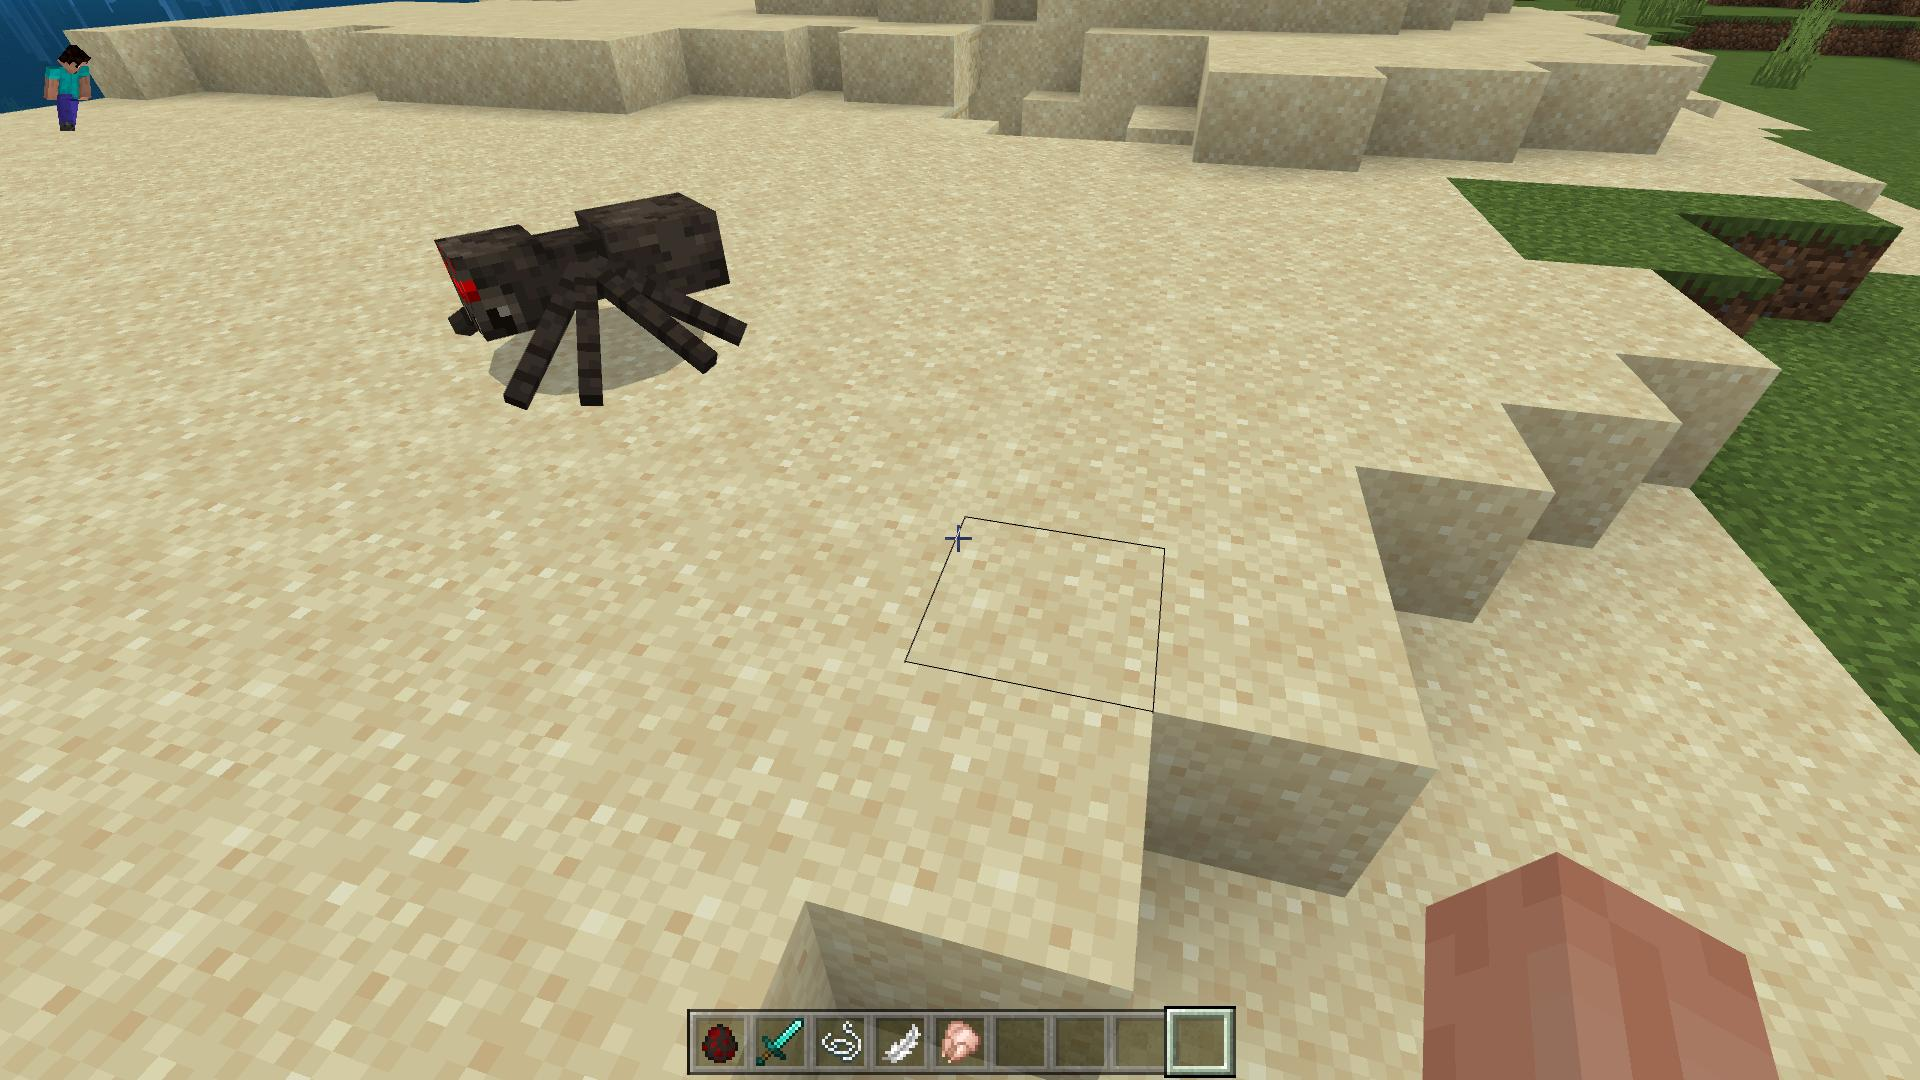spider: (429, 189, 752, 411)
